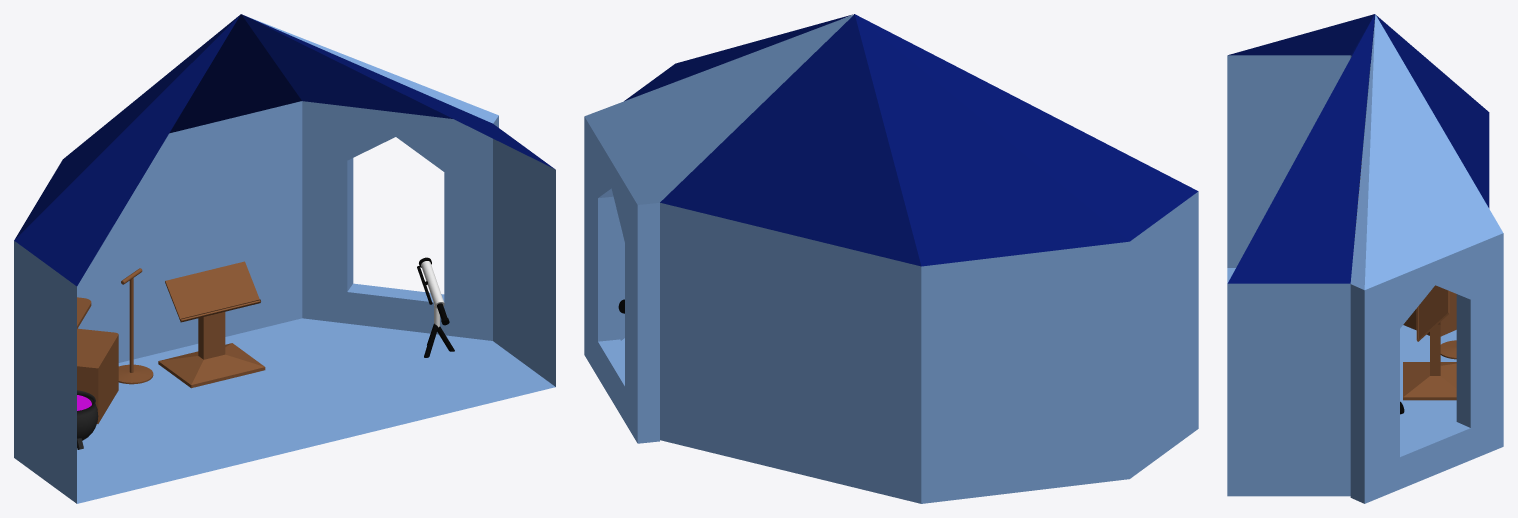
The model's file is room.glb.
3 views of the same model, side by side, from view 1: azimuth 30°, elevation 25°; view 2: azimuth 150°, elevation 25°; view 3: azimuth 270°, elevation 25° (orthographic). The views are drawn at different scales.
Visible parts, largest first — view 1: room, window, Book Stand, potion table, telescope, Bird stand, cauldron; view 2: room, window; view 3: room, window, Book Stand, potion table.
Part boxes in pixels (x1,y1,x2,y2): room: (14,14,555,503); window: (241,14,498,340); Book Stand: (158,261,265,388); potion table: (77,297,118,423); telescope: (417,257,454,357); Bird stand: (118,268,153,384); cauldron: (77,390,98,449); room: (620,14,1198,503); window: (584,14,853,443); room: (1227,14,1489,496); window: (1350,14,1503,503); Book Stand: (1403,285,1456,400); potion table: (1354,160,1456,336).
Size of the model in its own units: 20.39 by 15.3 by 10.13.
